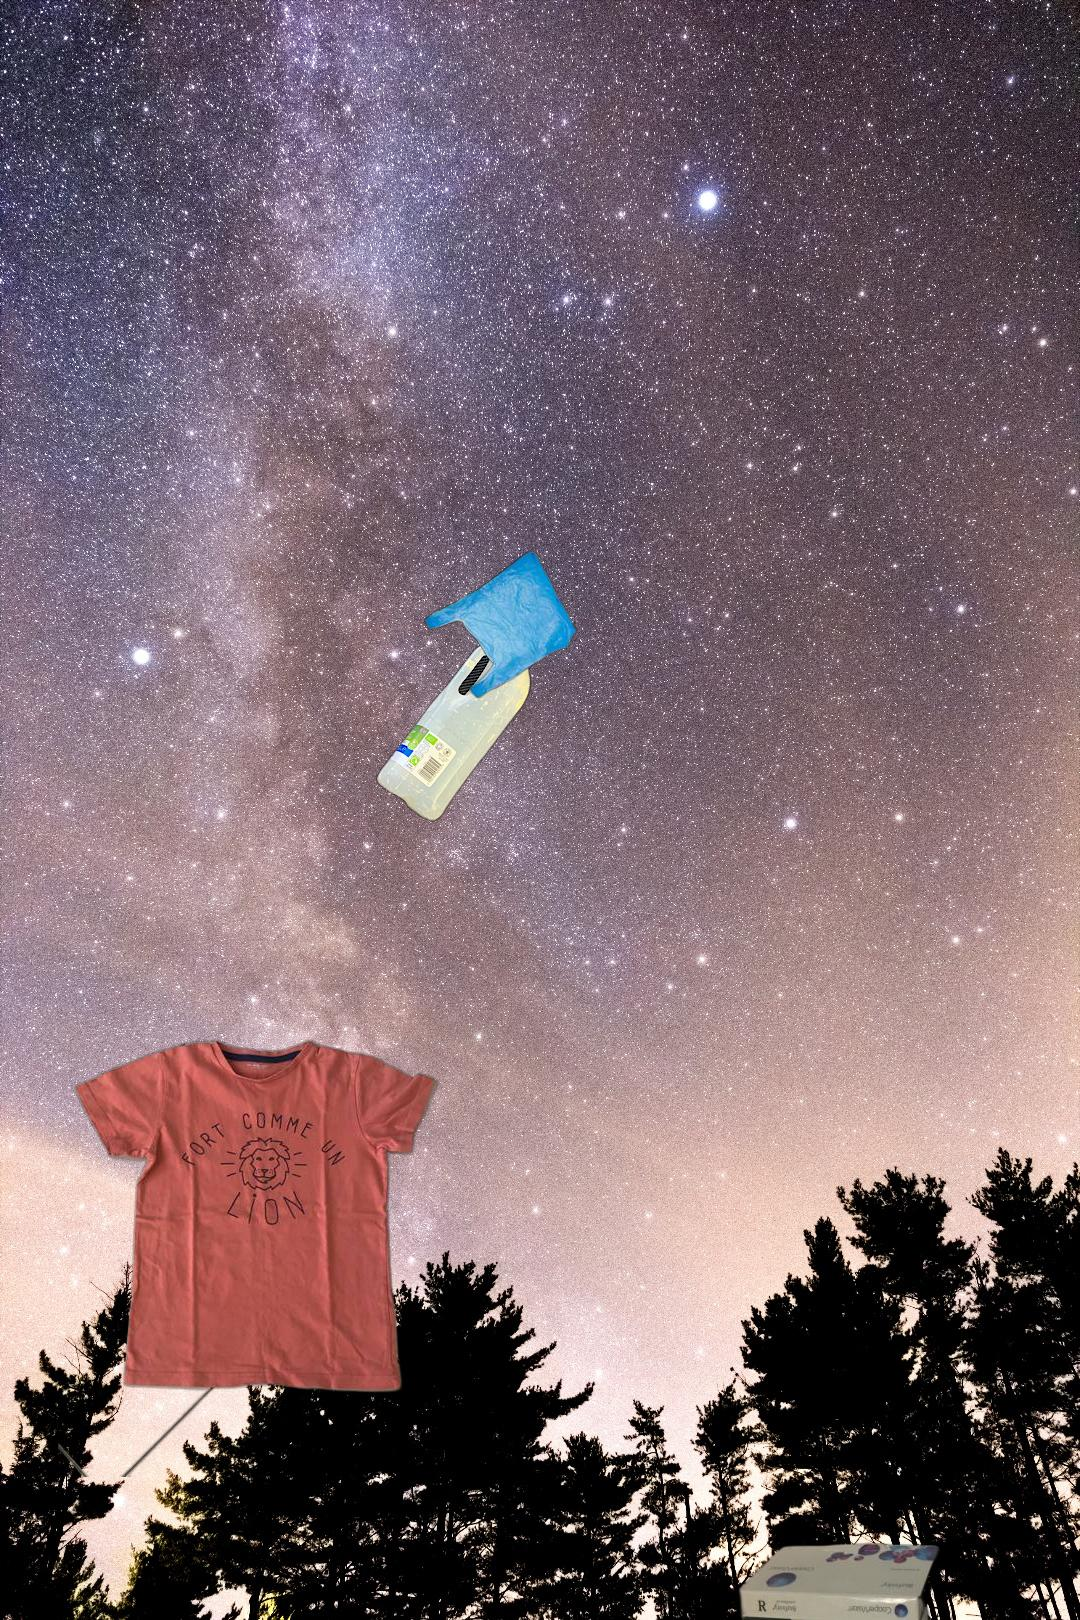clothes: (58, 944, 444, 1477)
paper: (734, 1539, 944, 1620)
plastic-bag: (422, 548, 579, 700)
plastic-bottles: (372, 632, 536, 827)
